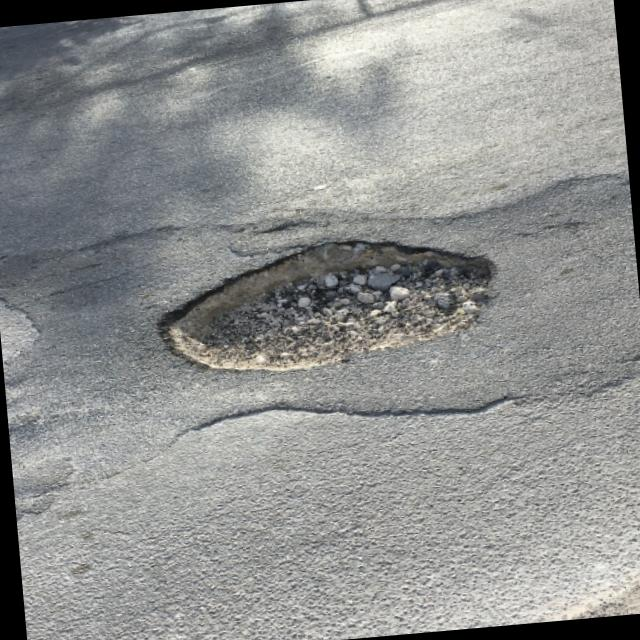Potholes: (103, 198, 530, 408)
